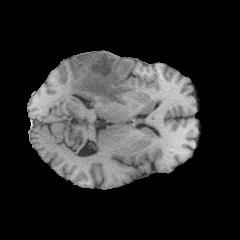glioma: (70, 52, 134, 105)
